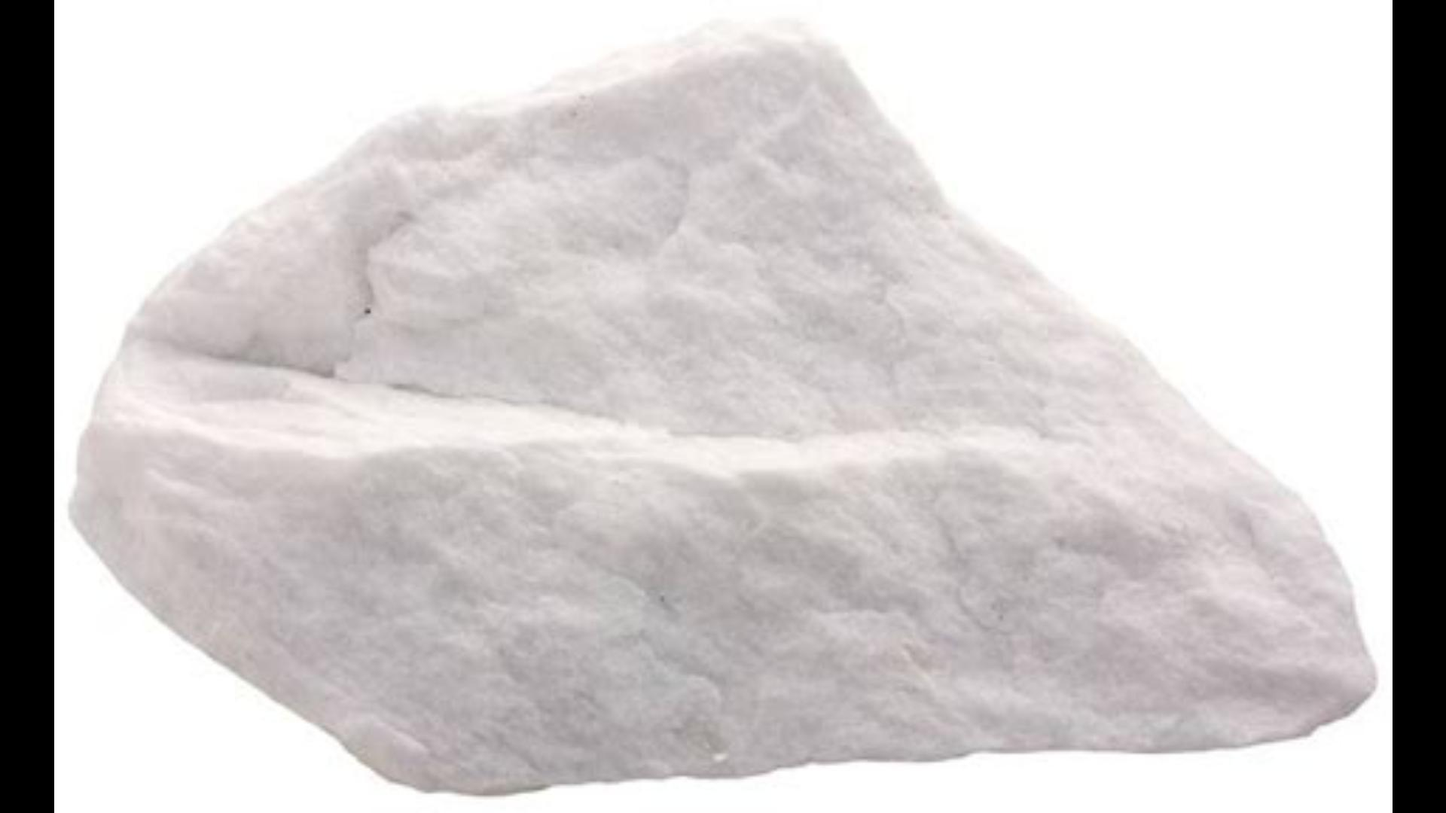rock: (76, 37, 1370, 785)
